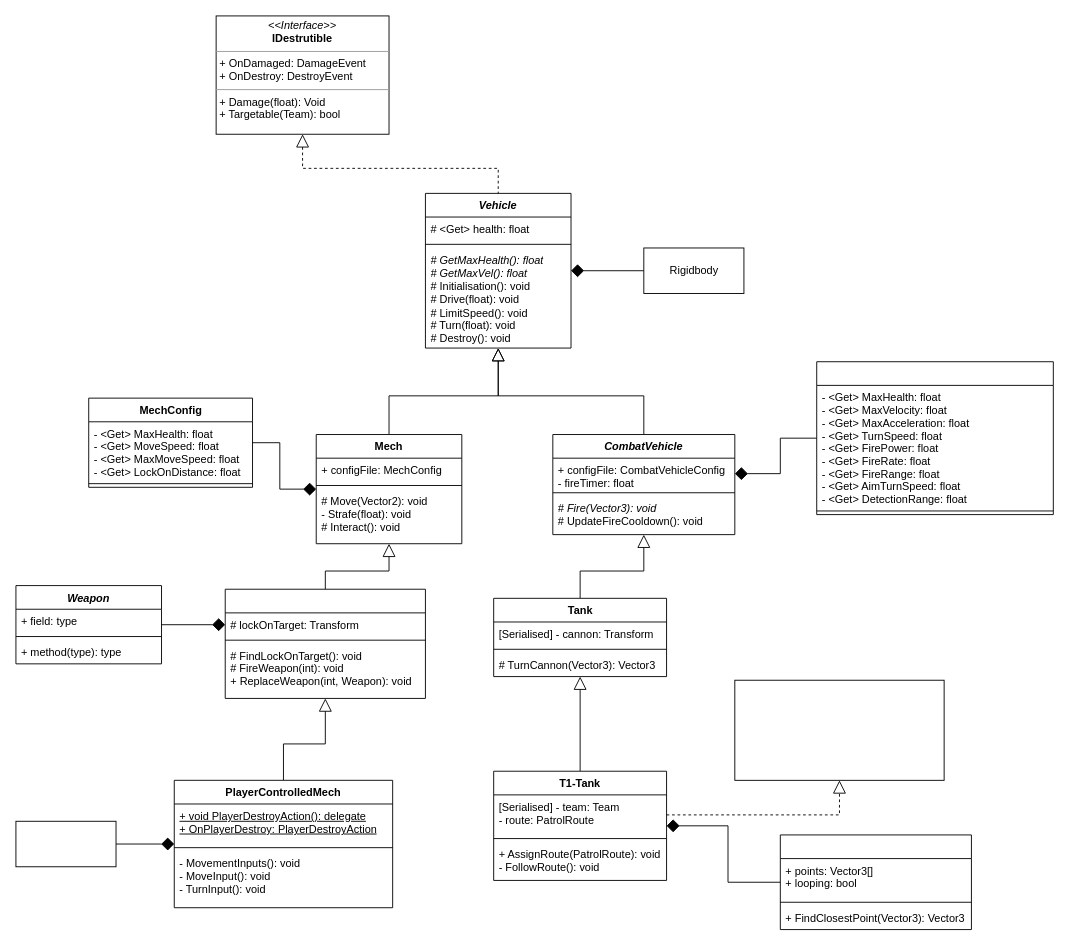
The diagram is 1069 pixels wide and 948 high, and some of its shapes have lost their labels. The shapes that lost their labels are listed below. From the top down, each one's box as (x1, y1, x2, y2) in pixels, then its label:
(816, 361, 1053, 515): CombatVehicleConfig
(224, 588, 425, 698): CombatMech
(734, 679, 944, 780): <<Interface>> IScorable + OnScoring: void ScoreEvent(Team, int) +
(15, 820, 116, 867): PlayerInput
(779, 834, 971, 930): PatrolRoute
